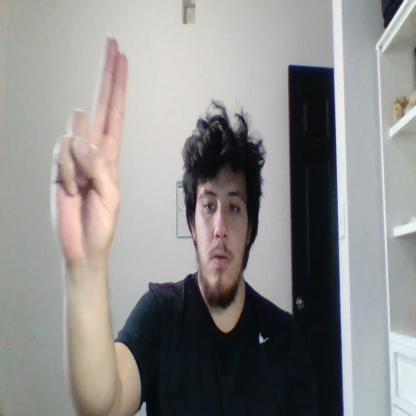U: (50, 32, 127, 257)
